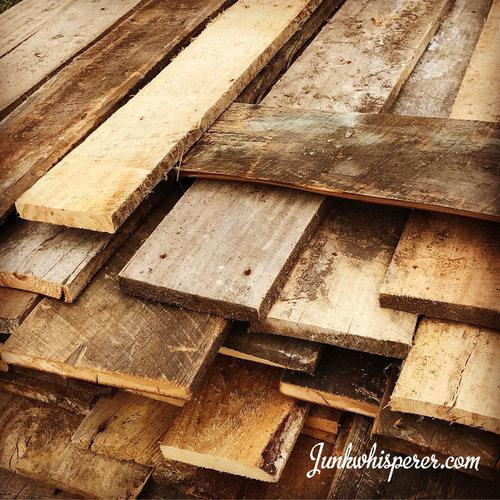wood: (3, 5, 496, 431)
